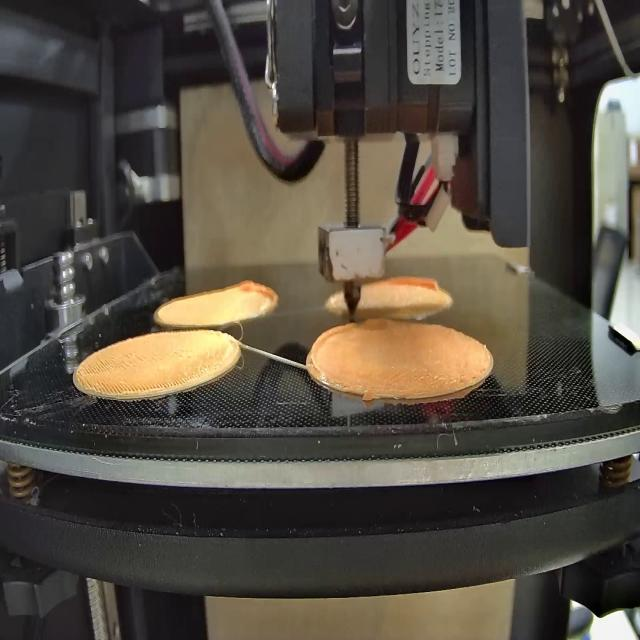over_extrusion: (309, 319, 354, 375), (237, 277, 281, 321), (389, 274, 443, 296), (365, 313, 392, 335)
